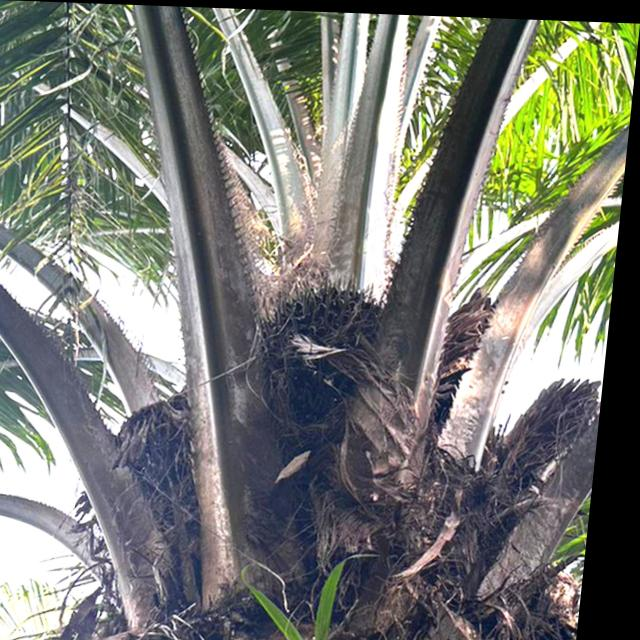ripe: (245, 260, 409, 437)
